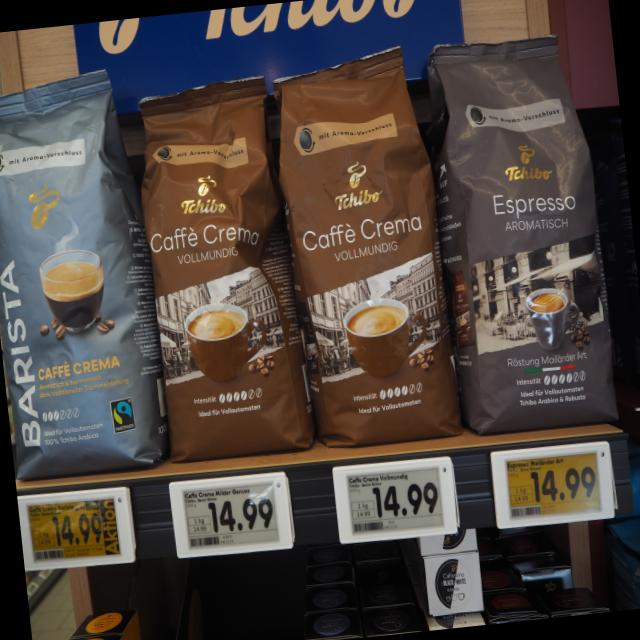Barista CC: (0, 60, 170, 483)
CC Vollmundig 36 Pads: (261, 38, 467, 456), (126, 70, 317, 468)
Espresso Aromatisch: (417, 24, 625, 442)
